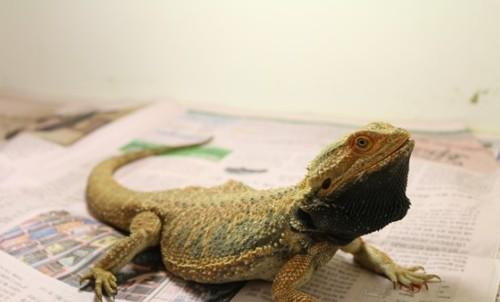bearded: (85, 121, 443, 302)
